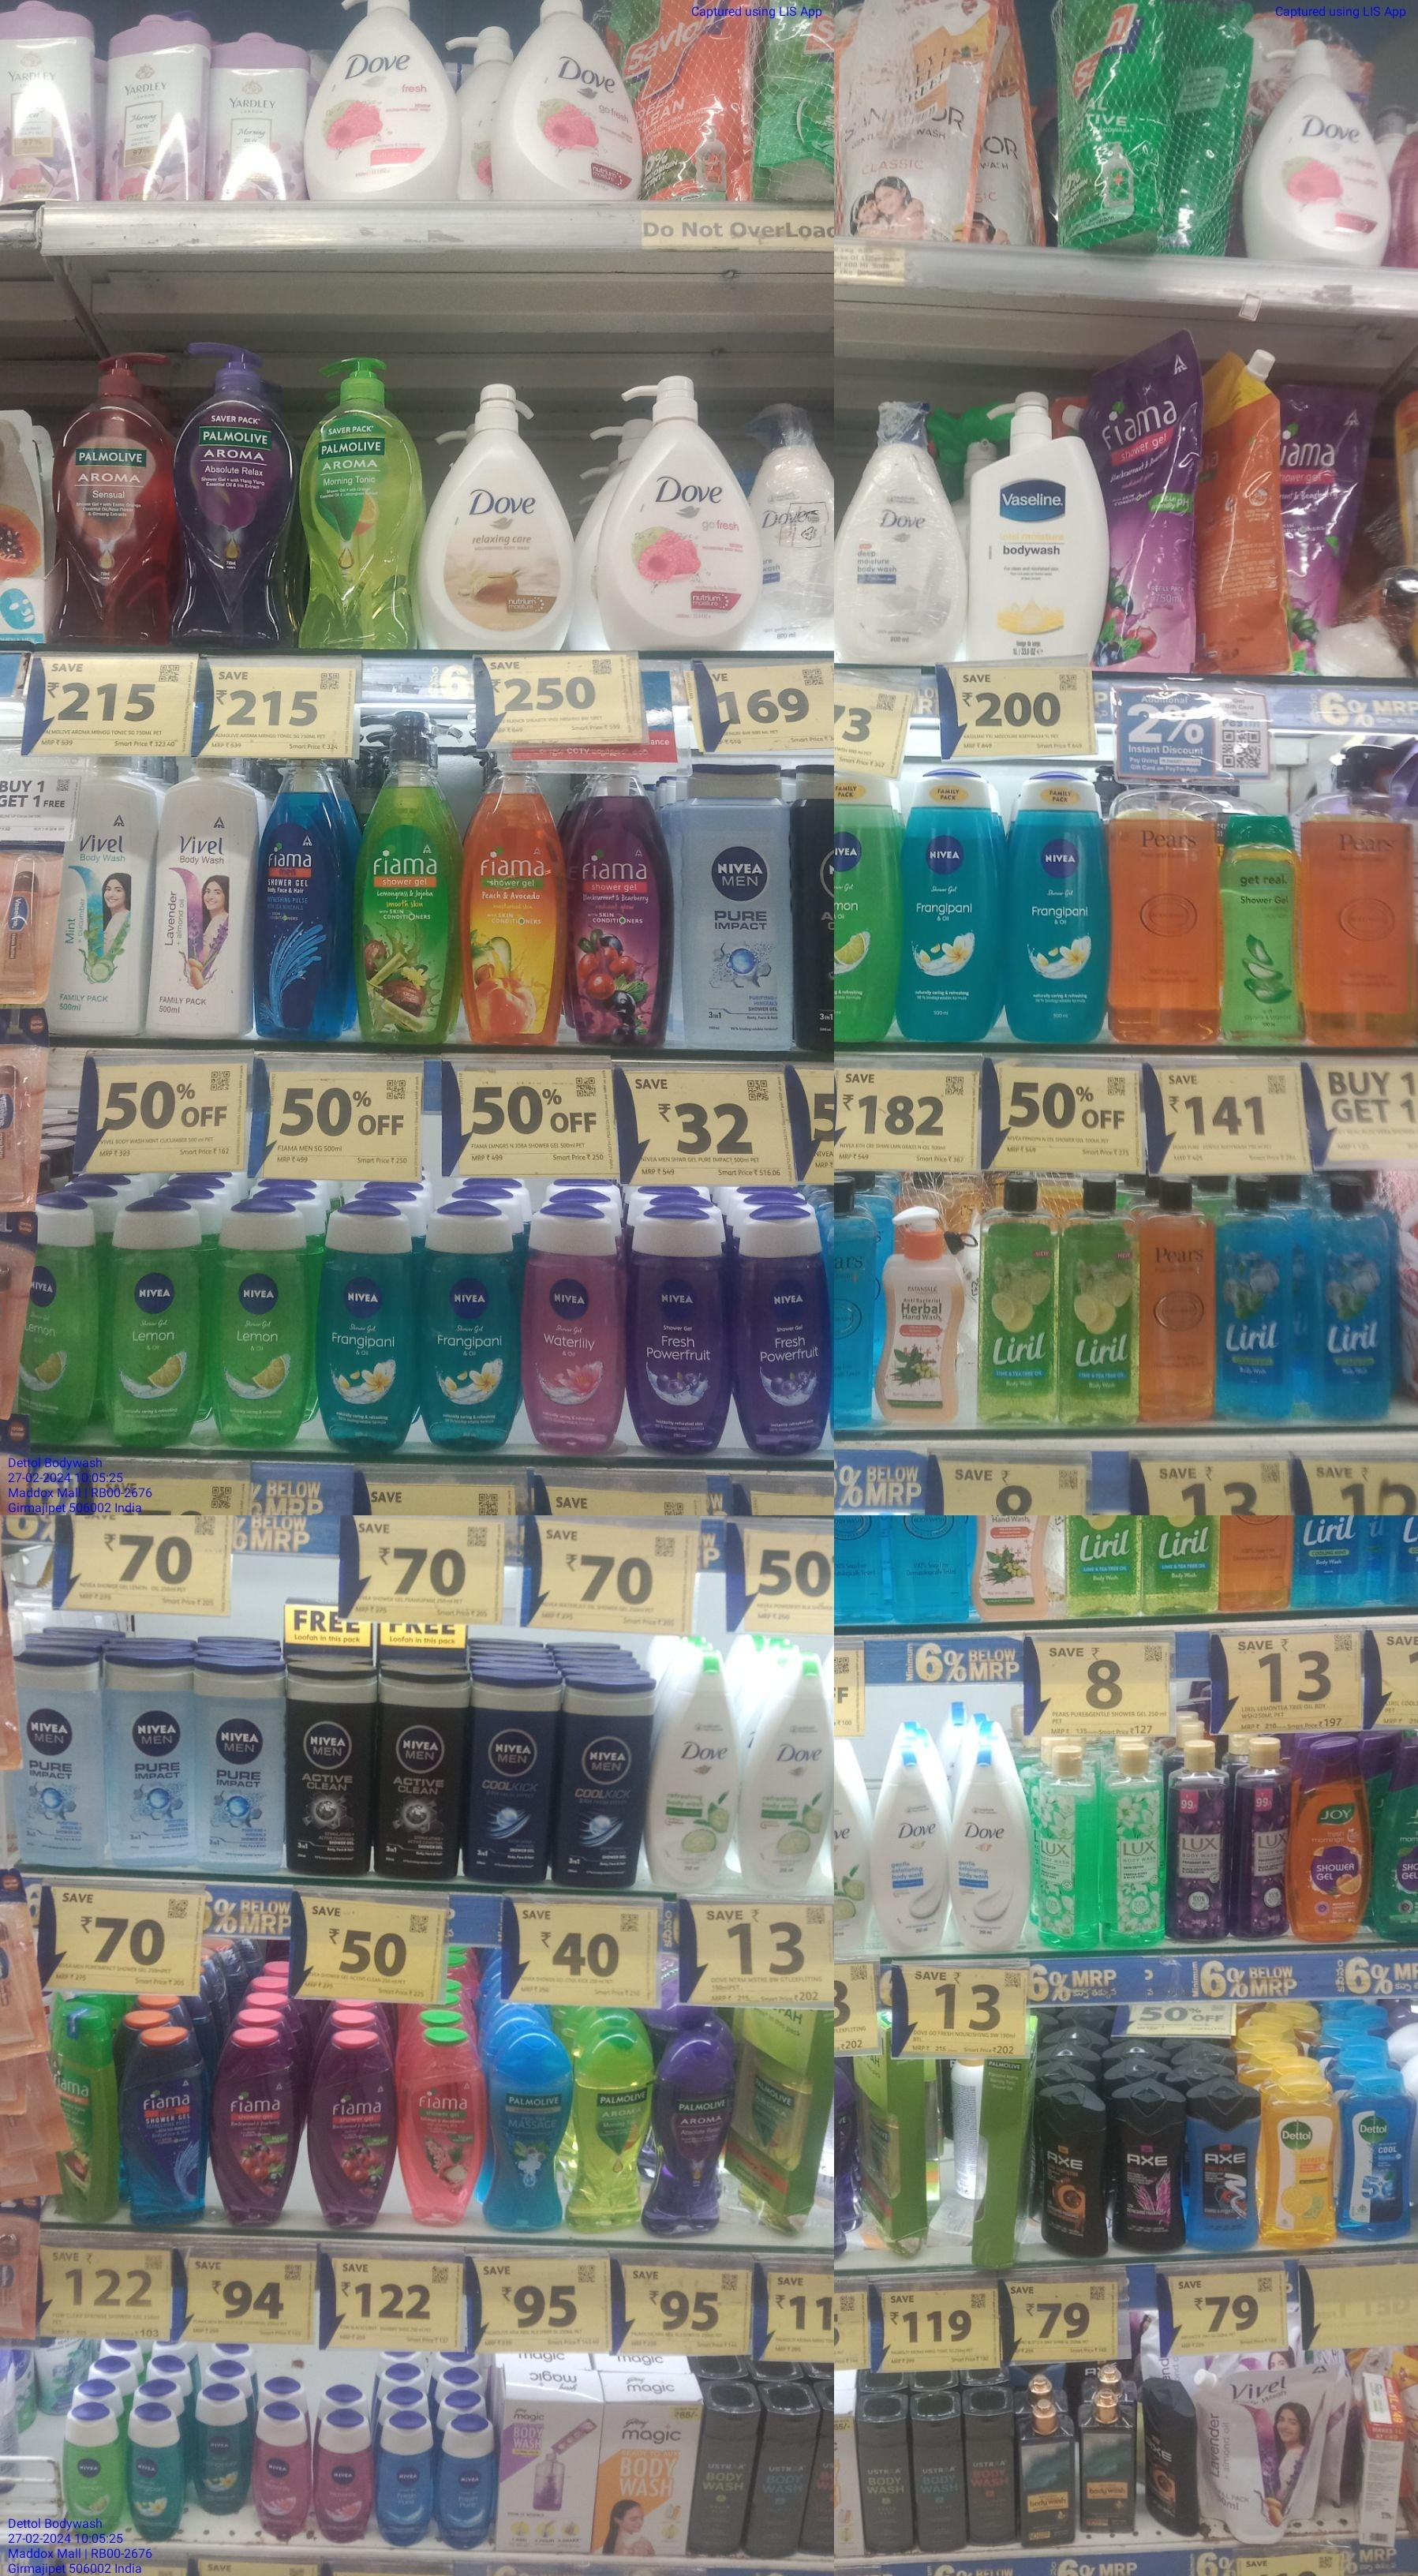Dettol_Bodywash_Cool: (1343, 2066, 1413, 2242)
Dettol_Bodywash_Refresh: (1266, 2066, 1336, 2253)
Dove_Gentle_Exfoliating_Body_Wash_250ML: (873, 1750, 948, 1958), (955, 1750, 1030, 1953)
Dove_Refreshing_Body_Wash_250ML: (749, 1656, 840, 1898), (655, 1654, 742, 1900)
Fiama_Shower_Gel_Patchouli_and_Macadamia_250ML: (403, 2026, 477, 2228)
Joy_Shower_Gel_Mandarin_and_Lemongrass_250ML: (1298, 1732, 1374, 1949)
Liril_Cooling_Mint_Body_Wash_250ML: (1215, 1172, 1289, 1427), (1320, 1179, 1394, 1423)
Liril_Lime_and_Tea_Tree_Oil_Body_Wash_250ML: (1067, 1172, 1140, 1430), (980, 1177, 1055, 1429)
Lux_Black_Orchid_Scent_and_Juniper_Oil_Body_Wash_245ML: (1174, 1738, 1231, 1946), (1236, 1741, 1289, 1946)
Lux_Body_Wash_Skin_Detox_Freesia_Scent_and_Alove_Vera_245ML: (1102, 1743, 1170, 1953), (1037, 1743, 1097, 1951)
Nivea_Shower_Gel_Frangipani_and_Oil_250ML: (901, 761, 1002, 1046), (1006, 772, 1107, 1044), (421, 1198, 519, 1455), (316, 1202, 410, 1457), (196, 2386, 250, 2515), (126, 2410, 178, 2541)
Nivea_Shower_Gel_Fresh_Powerfruit_250ML: (630, 1205, 730, 1457), (742, 1210, 836, 1455)
Nivea_Shower_Gel_Lemon_and_Oil_250ML: (108, 1207, 204, 1450), (211, 1202, 304, 1451), (28, 1193, 98, 1441), (59, 2408, 119, 2538)
Nivea_Shower_Gel_Waterlily_and_Oil_250ML: (527, 1202, 627, 1455), (316, 2415, 374, 2543), (255, 2415, 307, 2541)
Palmolive_Aroma_Moments_Feel_The_Massage_Shower_Gel_250ML: (489, 2031, 566, 2232)
Palmolive_Aroma_Morning_Tonic_Shower_Gel_250ML: (578, 2031, 646, 2237)
Palmolive_Aroma_Relax_250ML: (655, 2036, 732, 2237)
